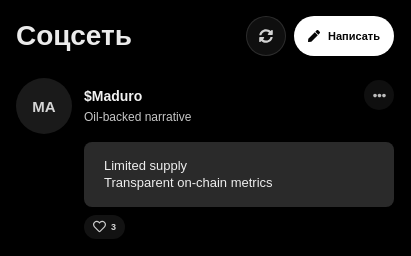
Test: replaces post with backend response after like intent
Click the button named "Поставить лайк": {"x": 104, "y": 227} x1=84 y1=215 x2=125 y2=239
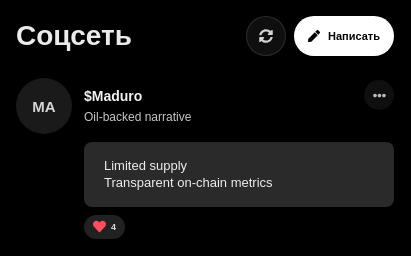
expect the button named "Убрать лайк" reads "4": met, box x1=84 y1=215 x2=125 y2=239
